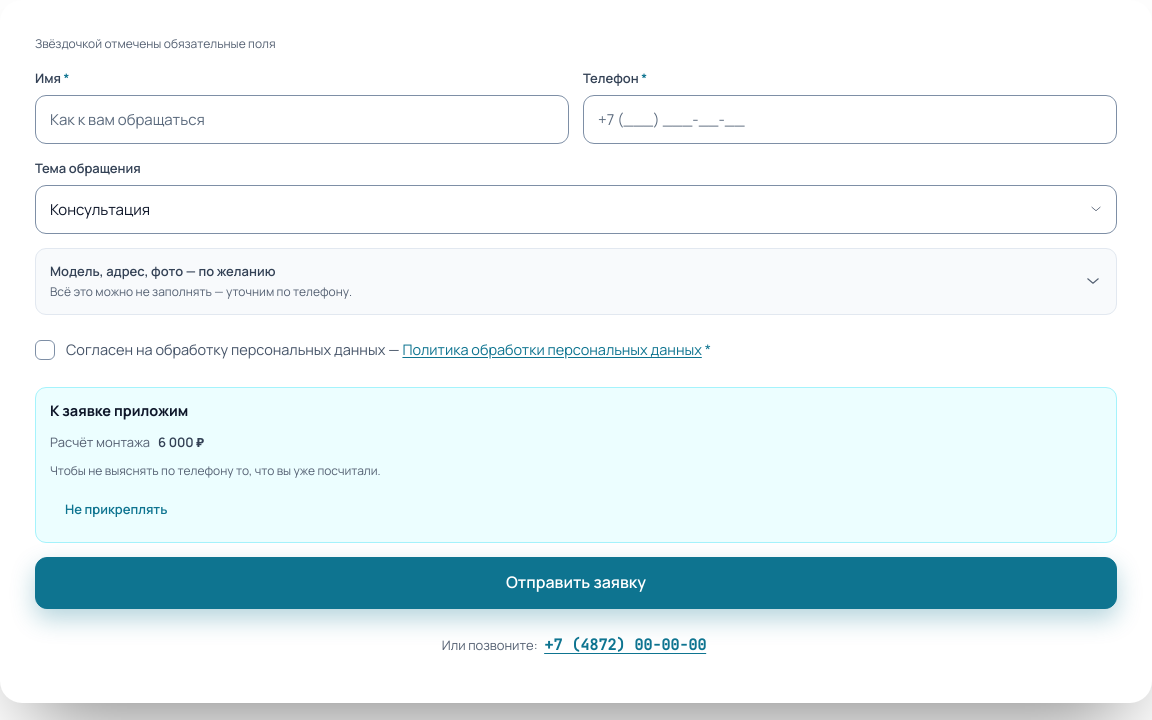
Test: LeadForm — контекст с других секций страницы › отправляет снимок вместе с заявкой и забывает его после успеха
The image size is (1152, 720).
Type "Ирина" into the field labelled "Имя *" at [302, 119], box [35,95,569,144]
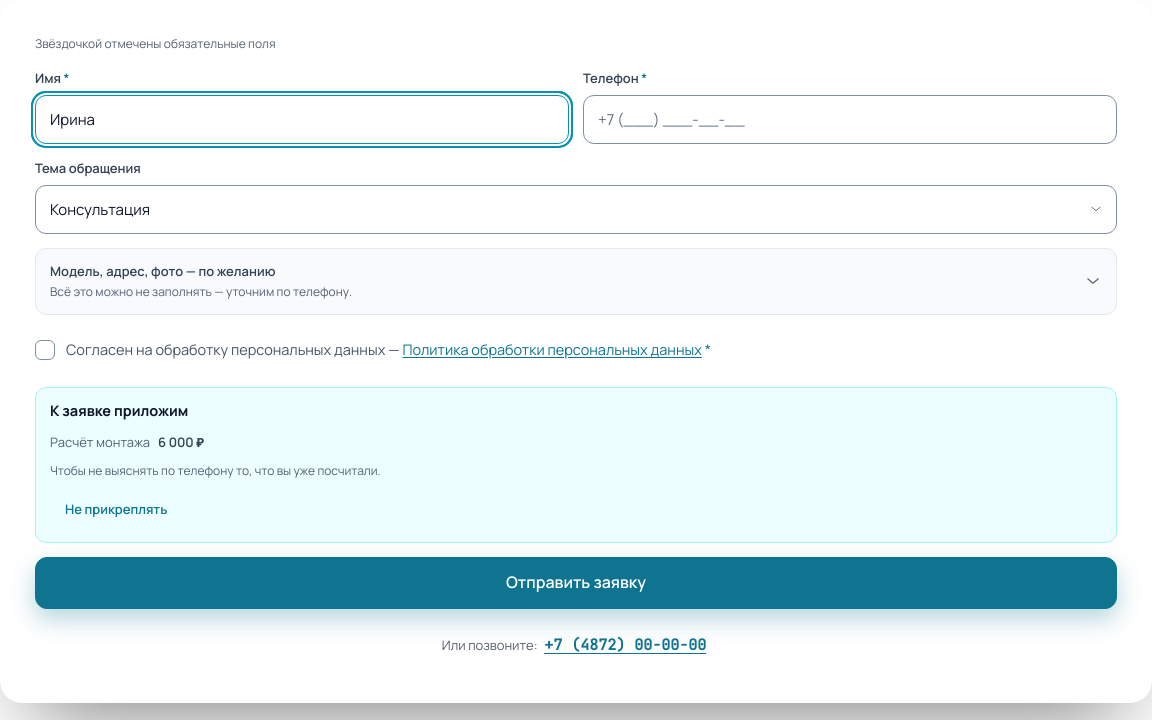
Type "+7 900 123-45-67" into the field labelled "Телефон *" at [850, 119], box [583,95,1117,144]
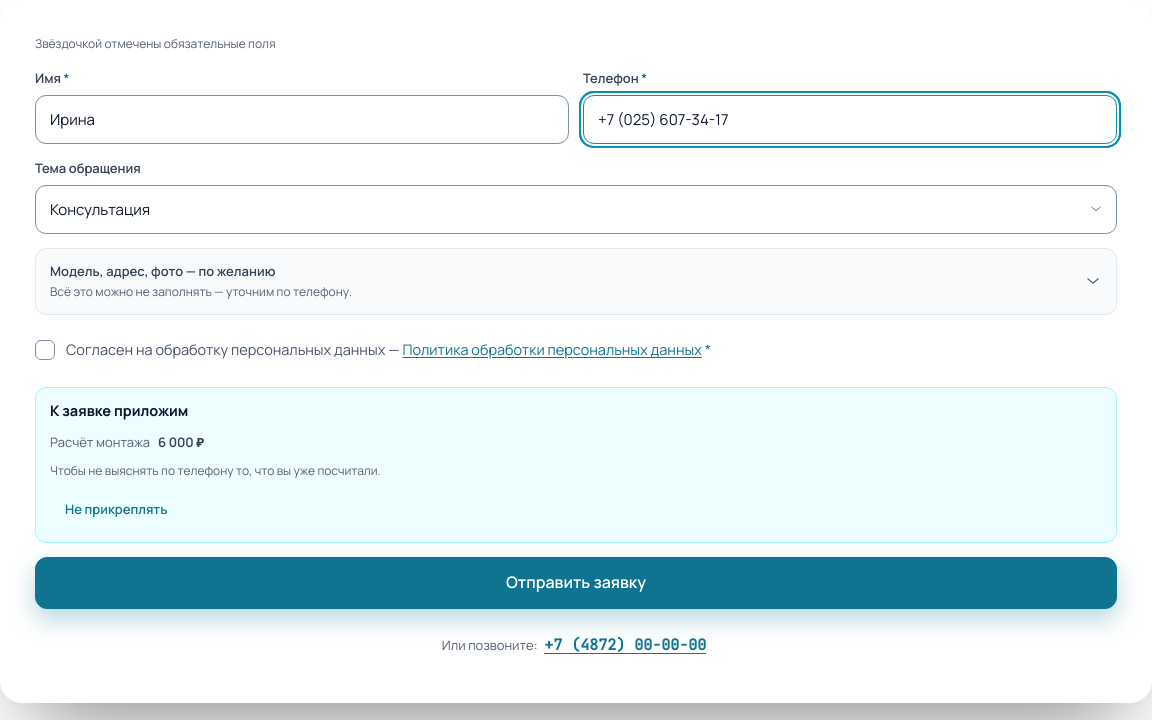
Click the checkbox at [45, 350], box [35,340,55,360]
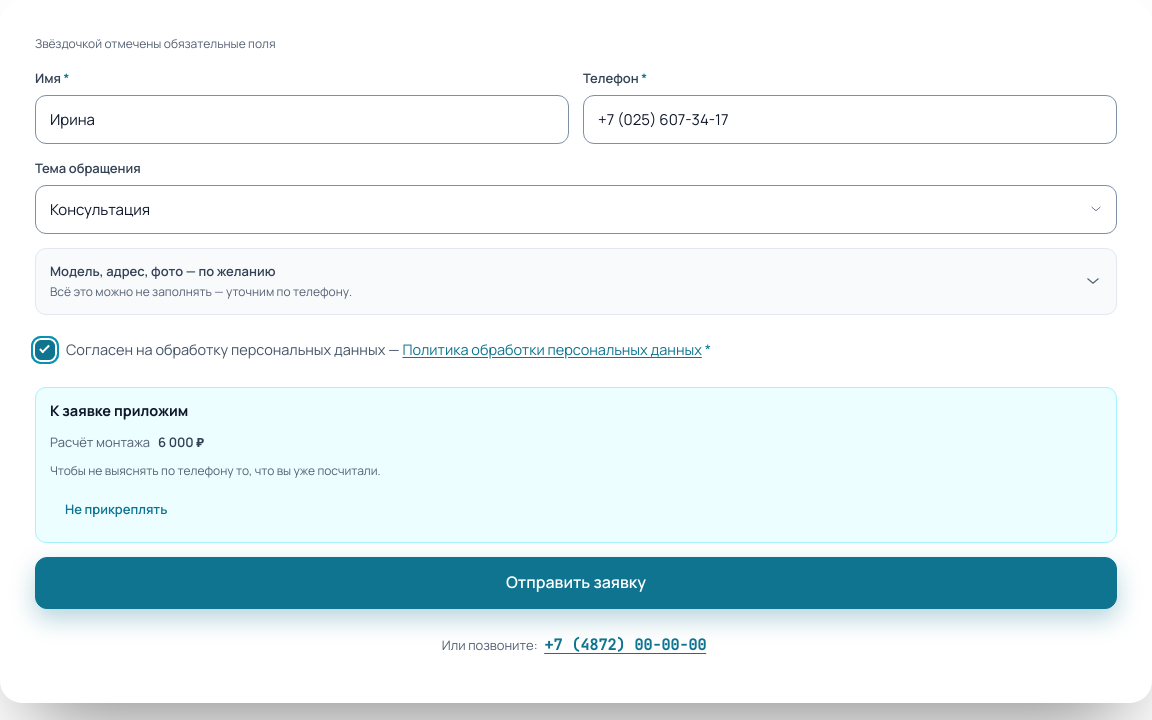
Click the button "Отправить заявку" at [576, 583], box [35,557,1117,609]
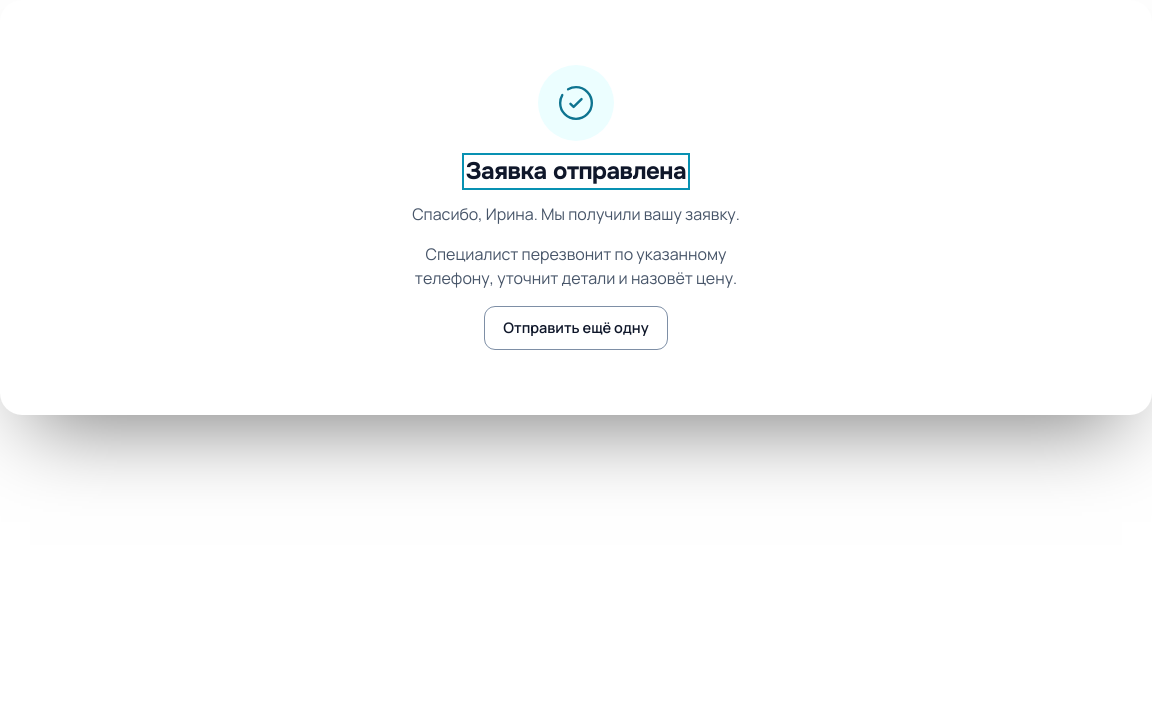
Expected: the heading "Заявка отправлена" is shown, [466,157,686,186]
